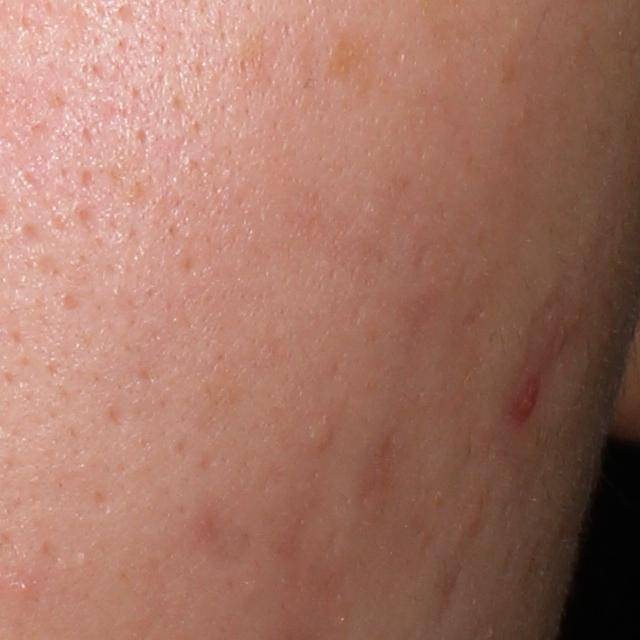comedo: (308, 415, 336, 449)
melasma: (323, 36, 375, 85)
papule: (512, 384, 542, 423)
